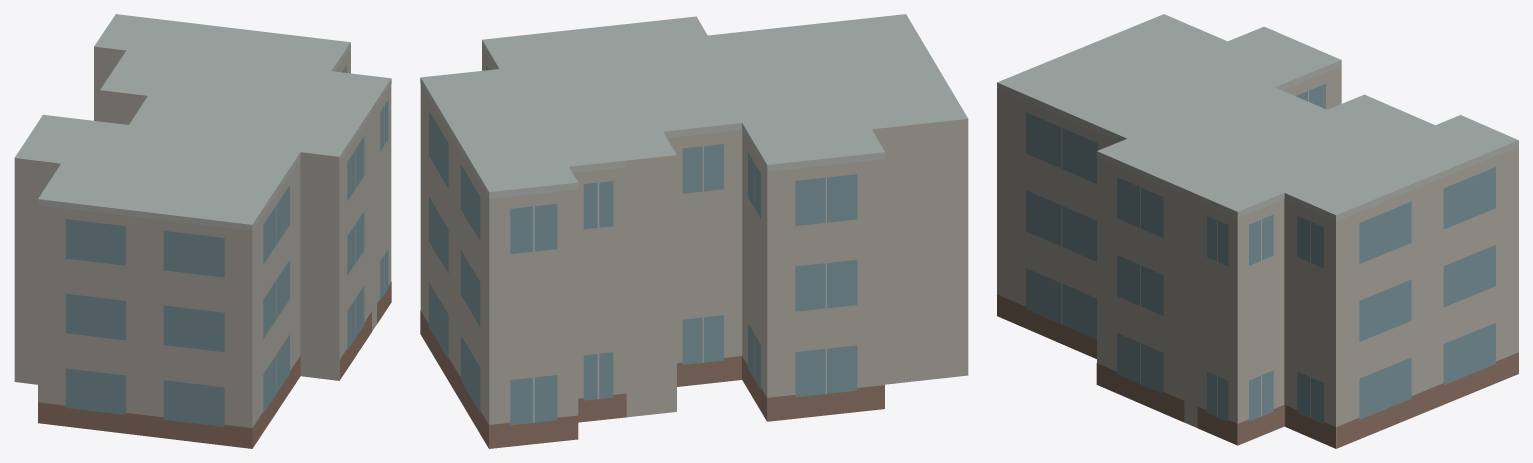
File: survey-upis-32472480.glb
3 renders of one model, left to right at view 1: azimuth 30°, elevation 25°; view 2: azimuth 150°, elevation 25°; view 3: azimuth 270°, elevation 25°, orthographic. The views are drawn at different scales.
Visible parts, largest first — view 1: survey-upis-32472480.tmp; view 2: survey-upis-32472480.tmp; view 3: survey-upis-32472480.tmp.
Boxes of the visible parts, <box> form: survey-upis-32472480.tmp: <box>14,14,391,448</box>; survey-upis-32472480.tmp: <box>420,14,968,448</box>; survey-upis-32472480.tmp: <box>997,14,1518,448</box>.
Bounding box in the file's own units: 16.91 × 9.15 × 18.53.
